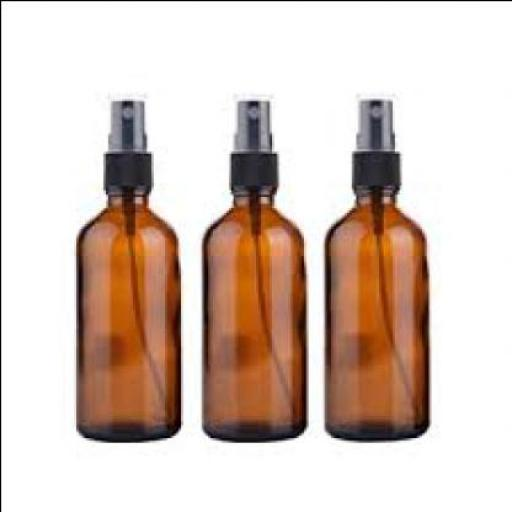glass: (205, 189, 307, 441), (328, 186, 430, 438), (78, 194, 182, 440)
plastic: (230, 90, 282, 189), (105, 90, 155, 192), (355, 91, 403, 182)
